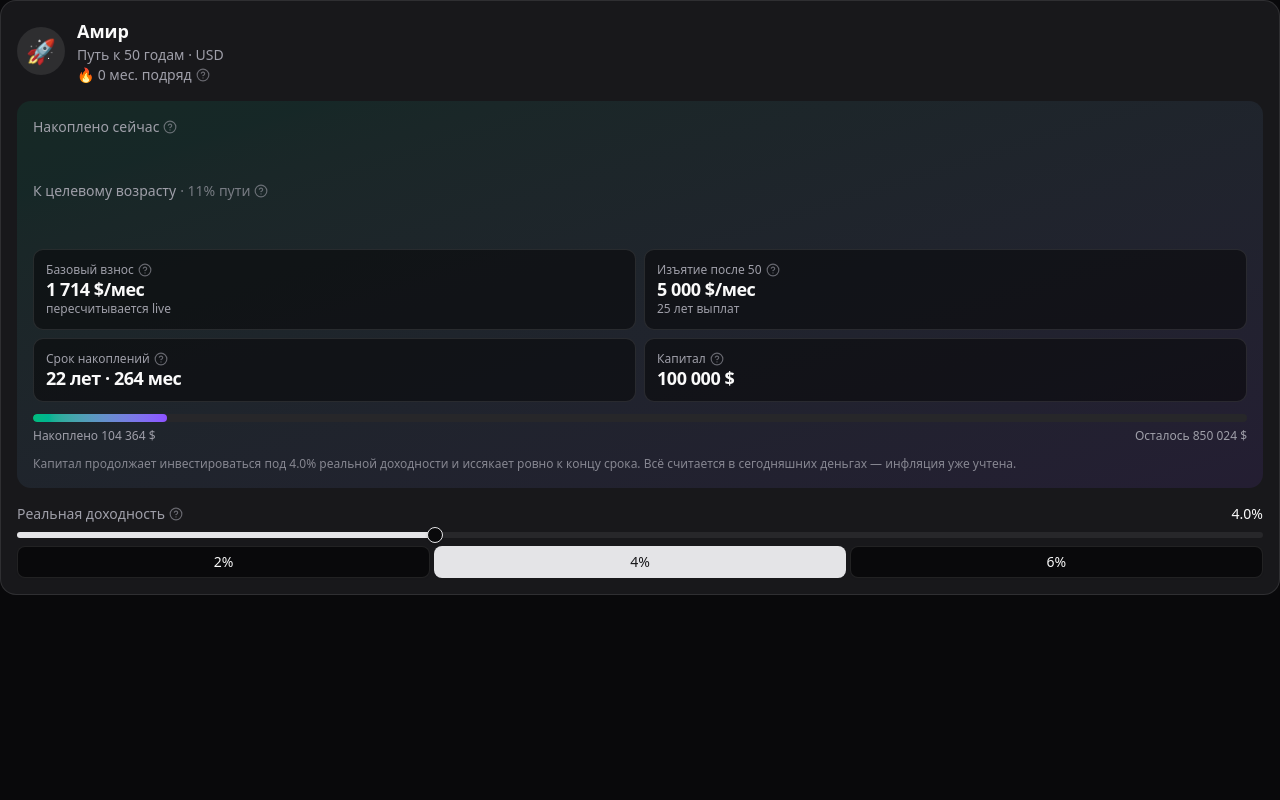
Test: hints › shows tooltip content on focus
This screenshot has width=1280, height=800.
Focus the button named "Подробнее" next to "мес. подряд" at {"x": 203, "y": 75}, box [196,68,210,82]
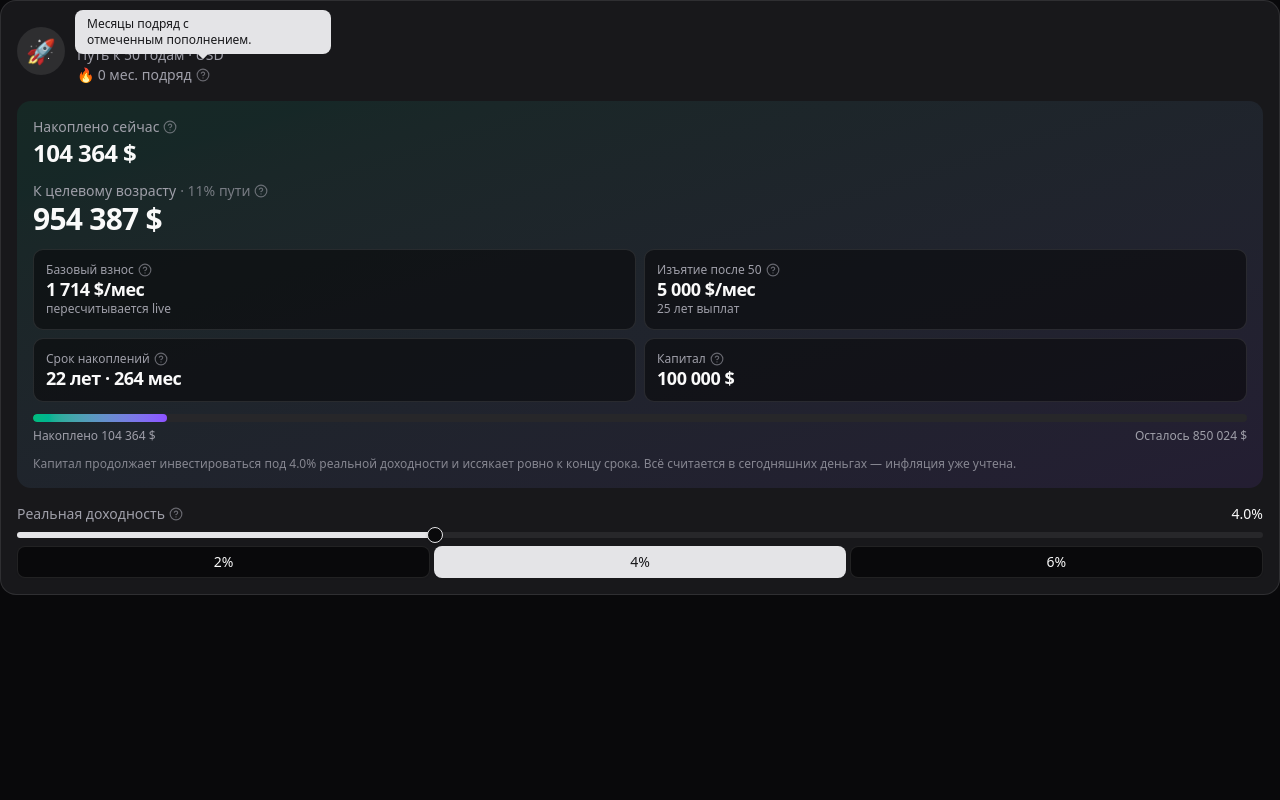
Expected: the tooltip "Месяцы подряд с отмеченным пополнением." is shown, [75,10,331,54]
